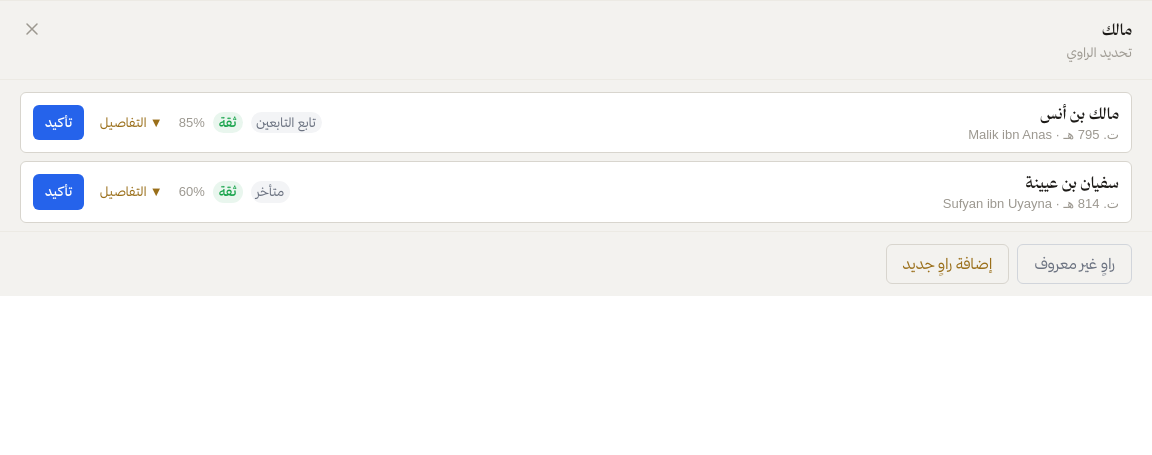
Scenario: NarratorDisambiguationPanel › expanding a candidate shows its bioNote and teachers/students/collections
// Click details toggle for first candidate
Click the button "▼ التفاصيل" next to "85": (131, 122) [96, 110, 167, 134]
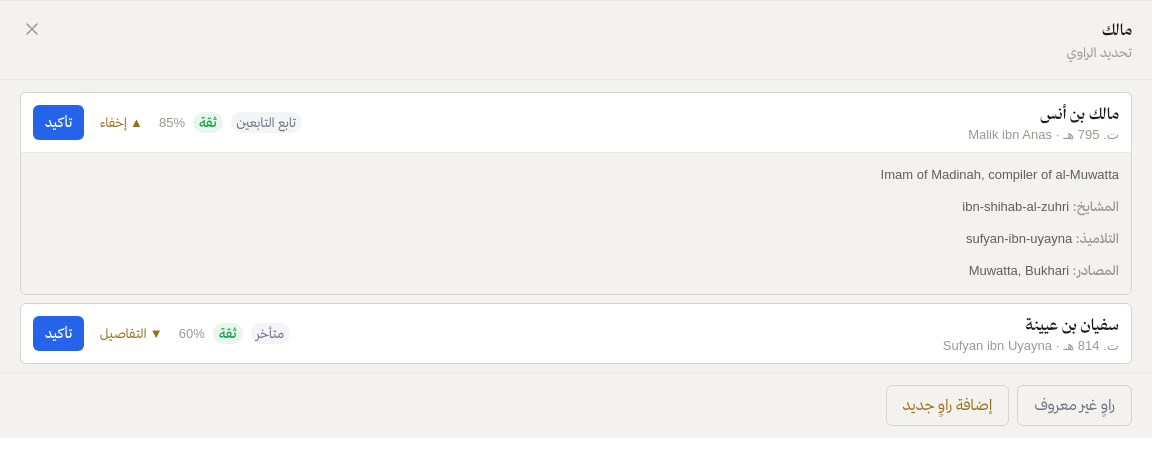
Check: the text "Imam of Madinah, compiler of al-Muwatta" is shown, box [881, 167, 1119, 182]
Check: the text "ibn-shihab-al-zuhri" is shown, box [962, 199, 1069, 214]
Check: the text "sufyan-ibn-uyayna" is shown, box [966, 231, 1072, 246]
